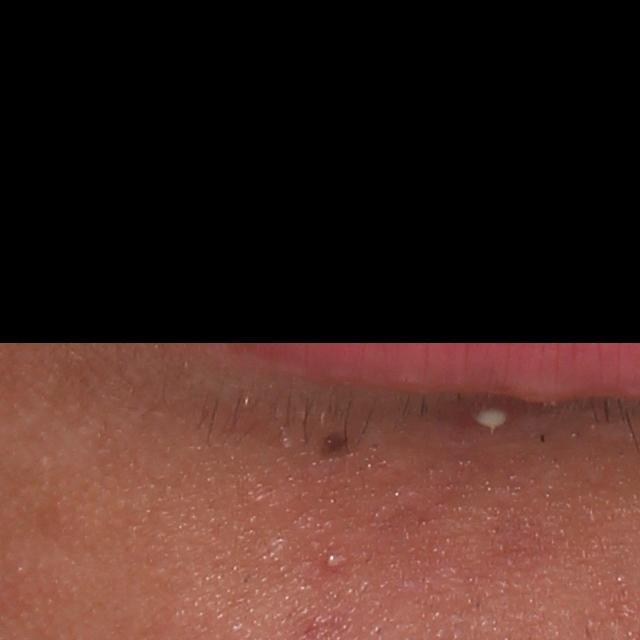pustule: (474, 396, 519, 436), (320, 546, 348, 573)
